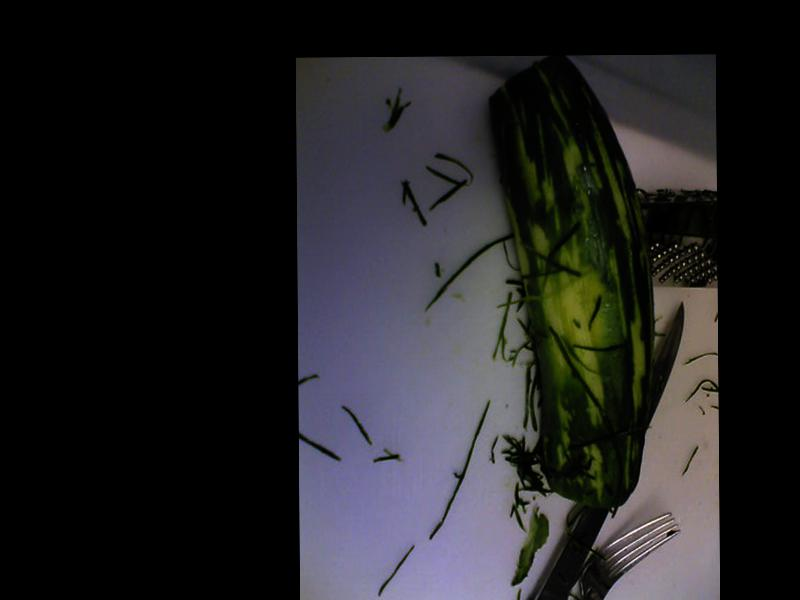Cucumber: (488, 57, 655, 510)
